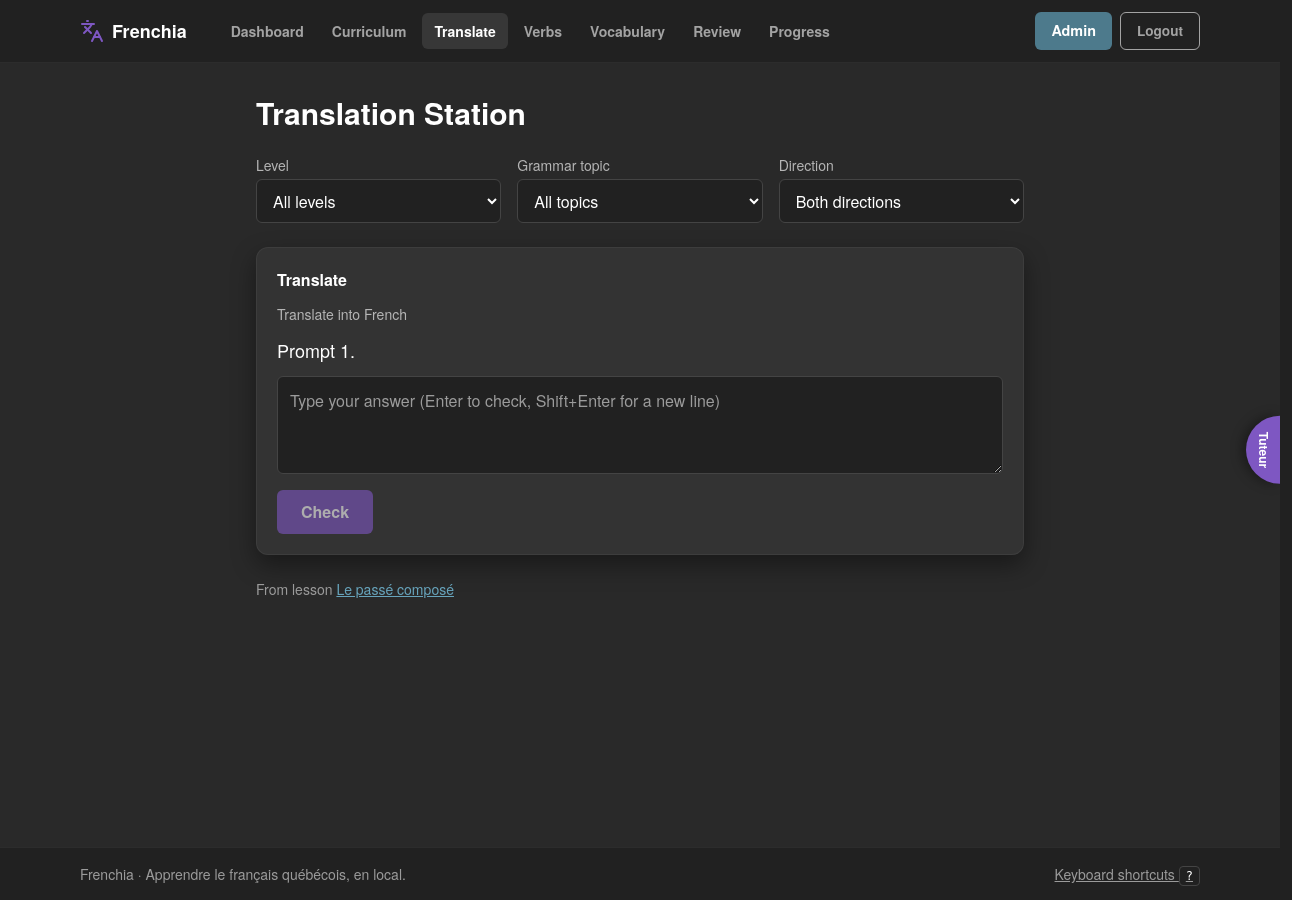
Test: Translation Station › offers Next after a result (button and n key)
The width and height of the screenshot is (1292, 900).
Check: the text "Prompt 1." is shown, box [277,336,355,364]
Check: the button "Next" is not shown
In the text box named "Your translation": [640, 425] box [277,376,1003,474], type "réponse"
Then press Enter
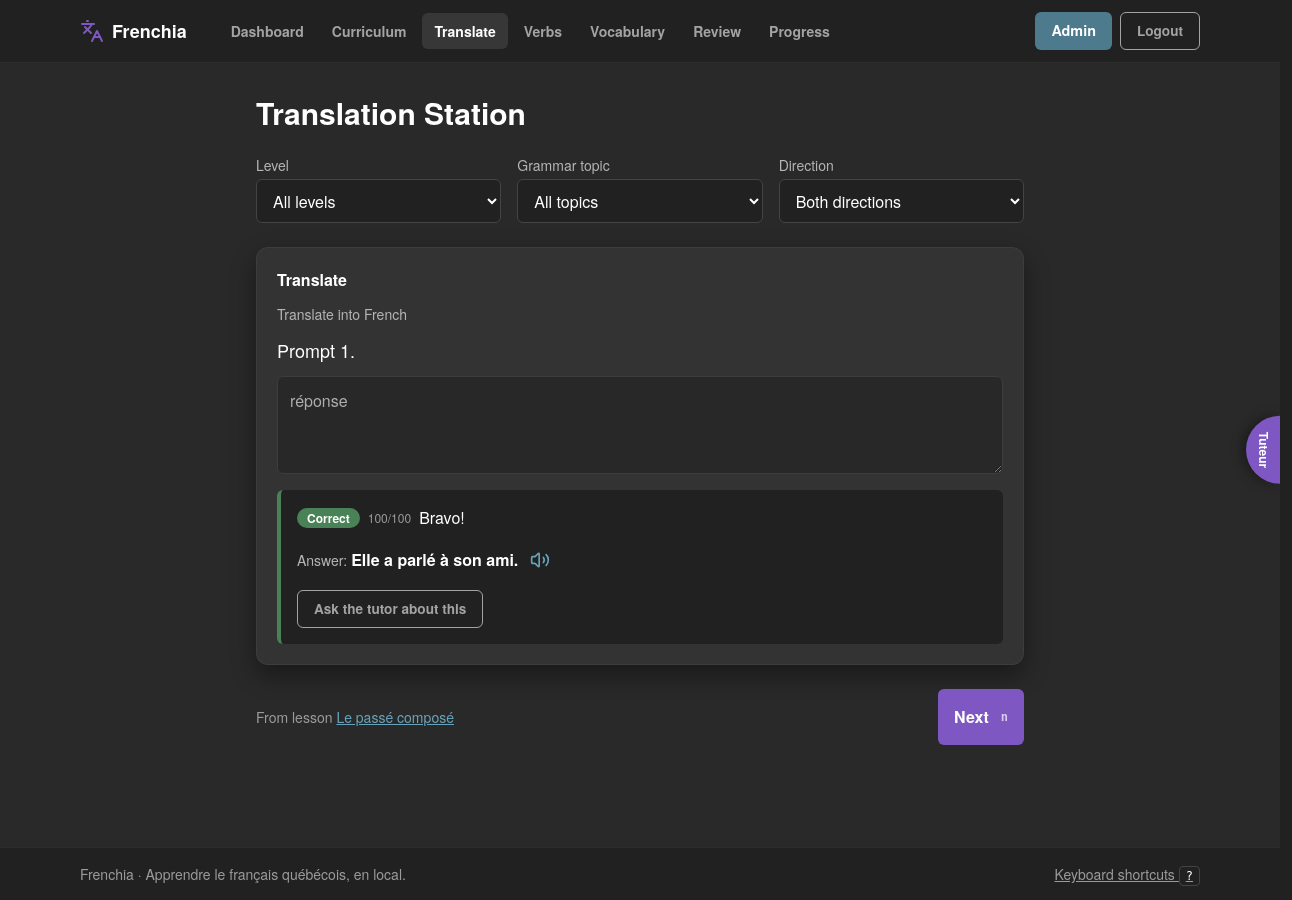
Click the button "Next n": [981, 717] box [938,689,1024,745]
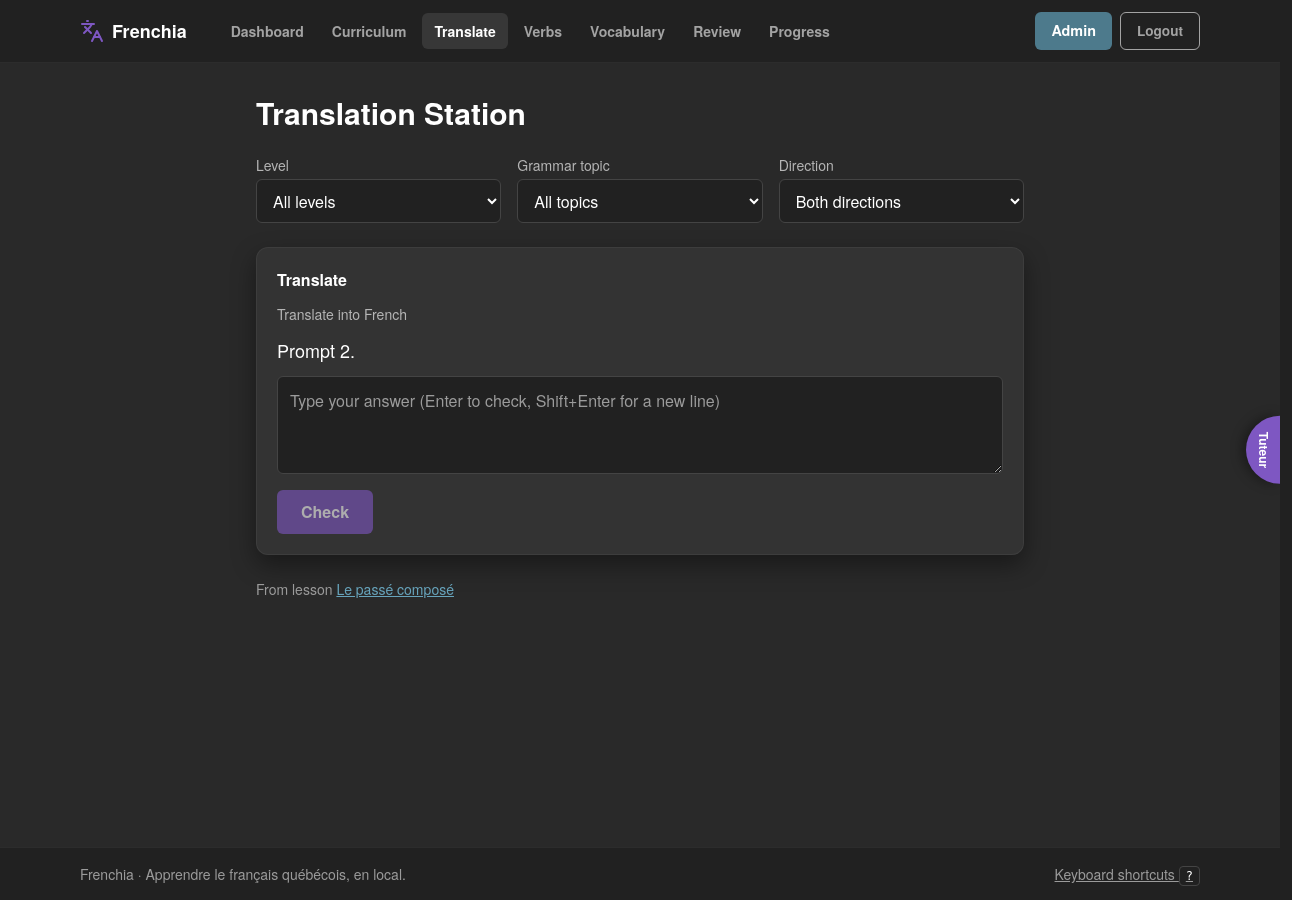
Check: the text "Prompt 2." is shown, box [277,336,355,364]
In the text box named "Your translation": [640, 425] box [277,376,1003,474], type "réponse"
Then press Enter
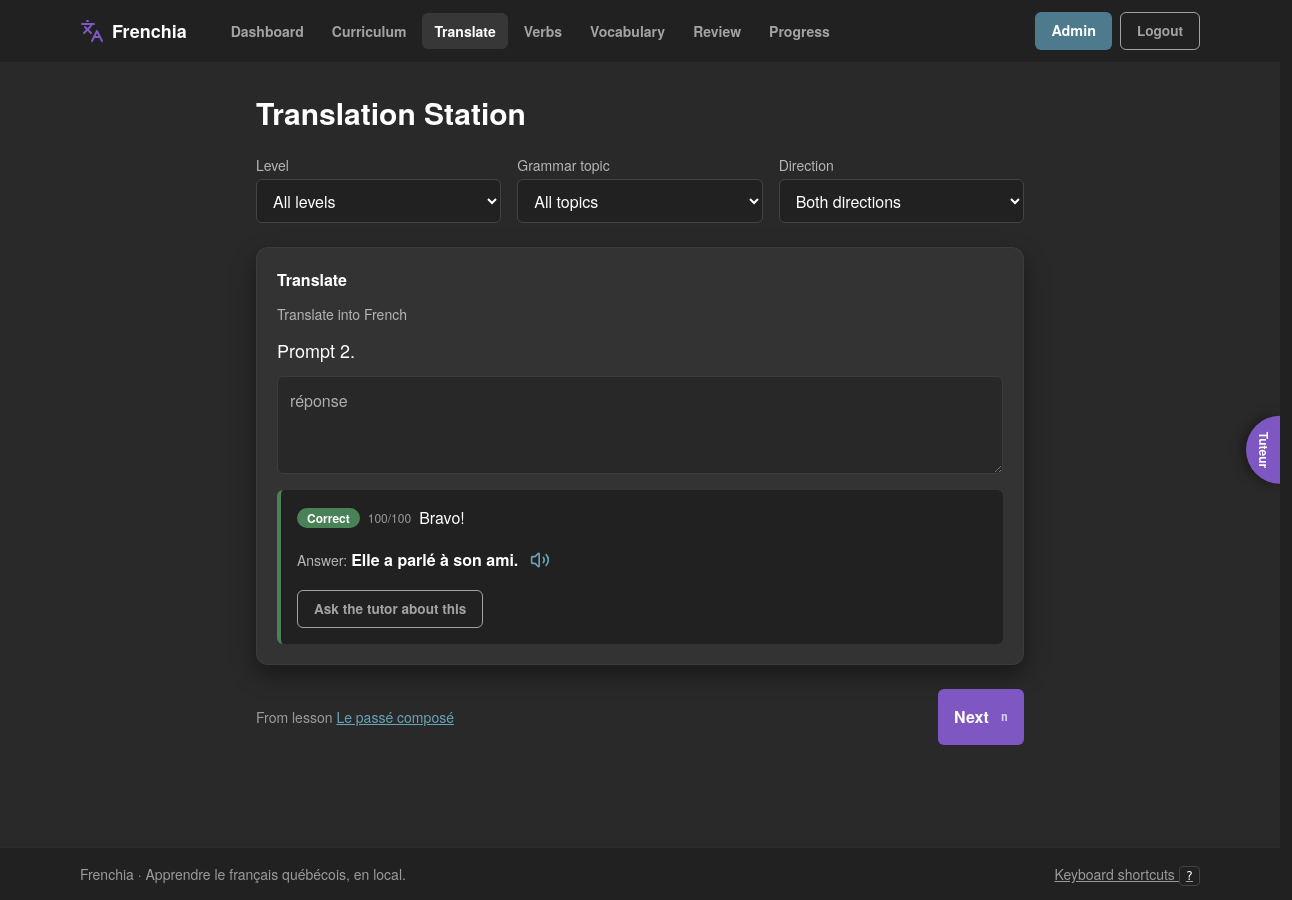
Check: the button "Next n" is shown, box [938,689,1024,745]
Type keys "n"
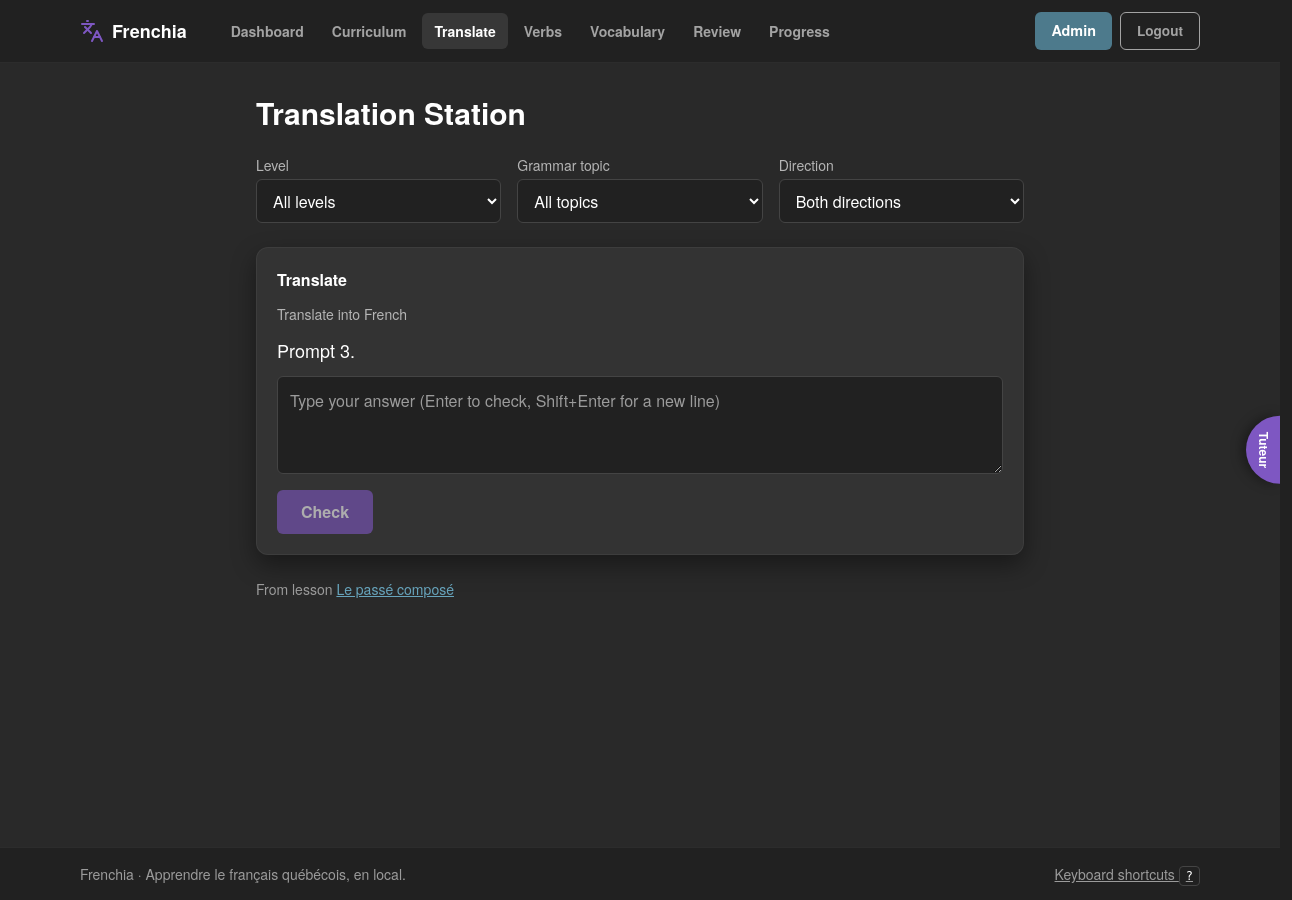
Check: the text "Prompt 3." is shown, box [277,336,355,364]
